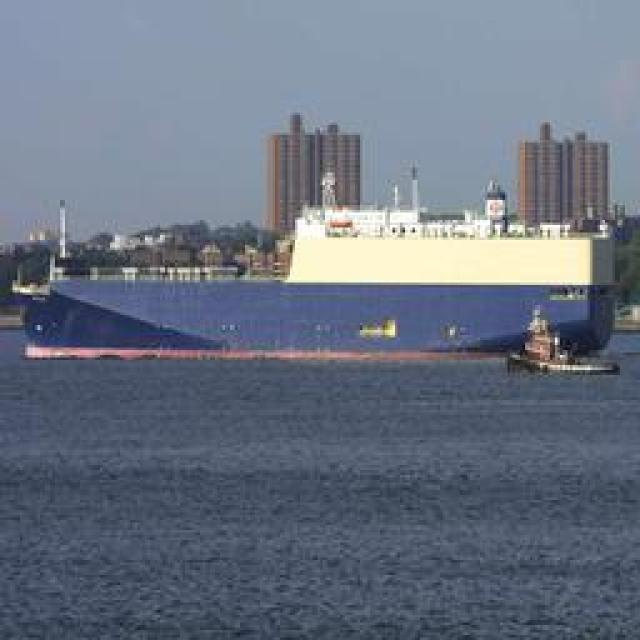CIV_Ship: (31, 234, 619, 356)
